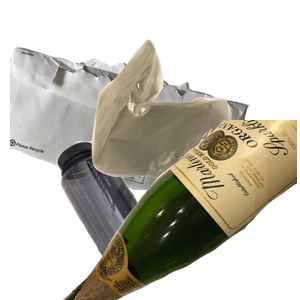glass: (60, 120, 300, 300)
paper: (10, 45, 250, 225)
plastic: (54, 136, 209, 300)
trash: (89, 37, 300, 213)
